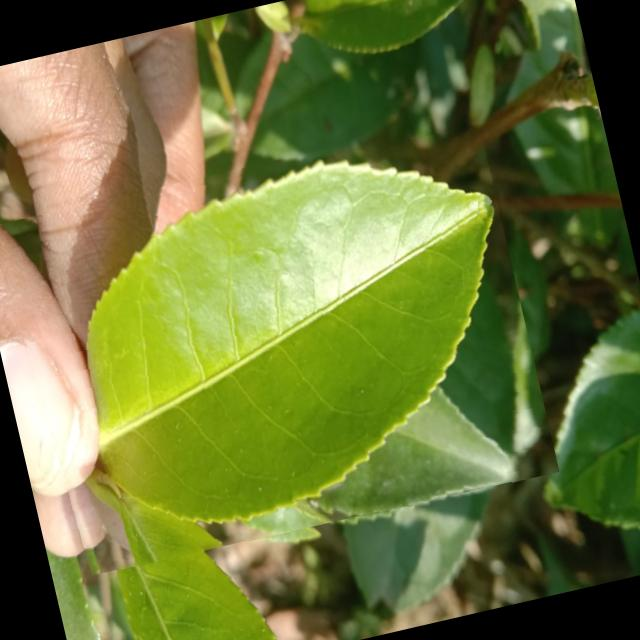Category B 2-4 days: (0, 113, 558, 583)
